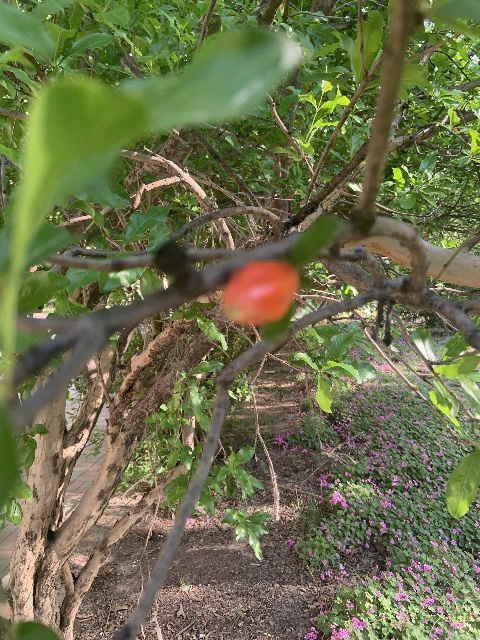bud: (222, 260, 299, 326)
